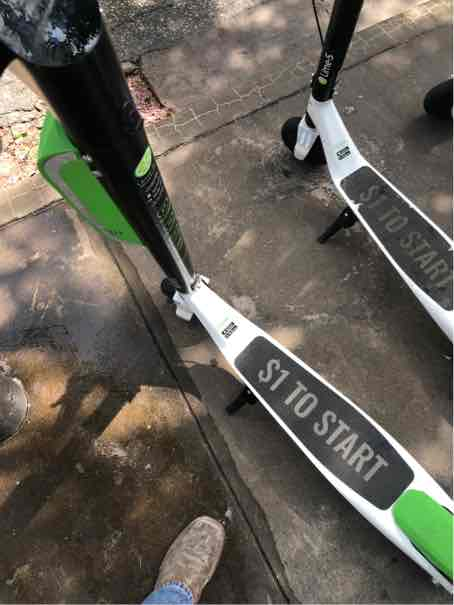scooter: (8, 13, 441, 605)
